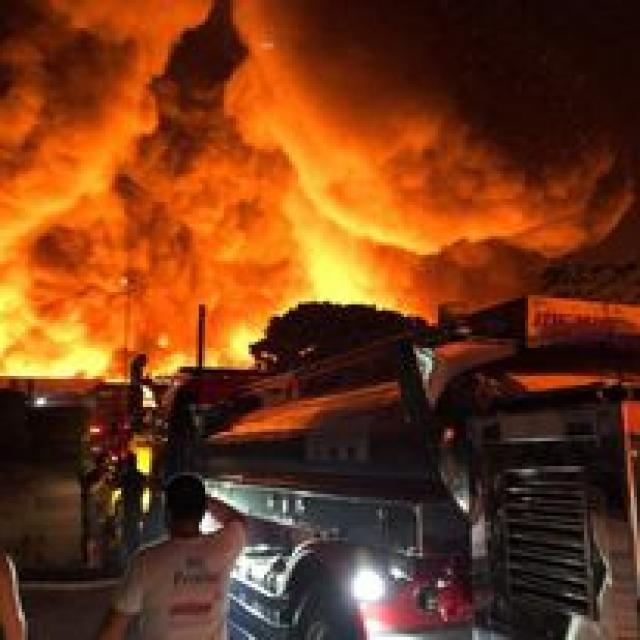Fire: (276, 200, 392, 320), (0, 262, 109, 385)
Smoke: (226, 0, 640, 268), (21, 90, 297, 356), (0, 0, 195, 242)
